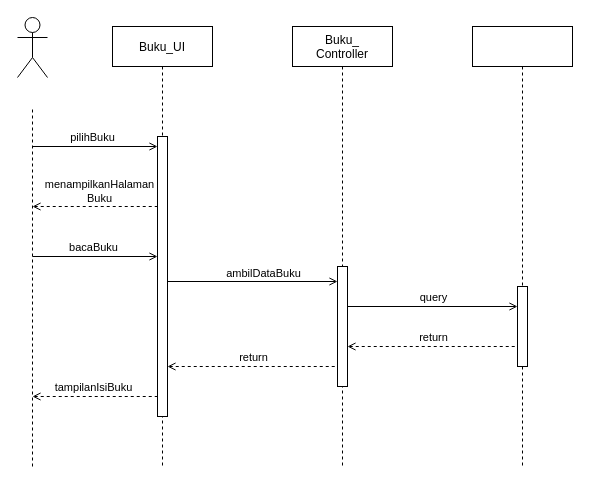
The diagram is 590 pixels wide and 485 high, and some of its shapes have lost their labels. Here are the shapes that lost their labels. From the top down, the box of each, then its label:
(16, 16, 48, 78): User
(472, 26, 572, 466): Buku_Database
